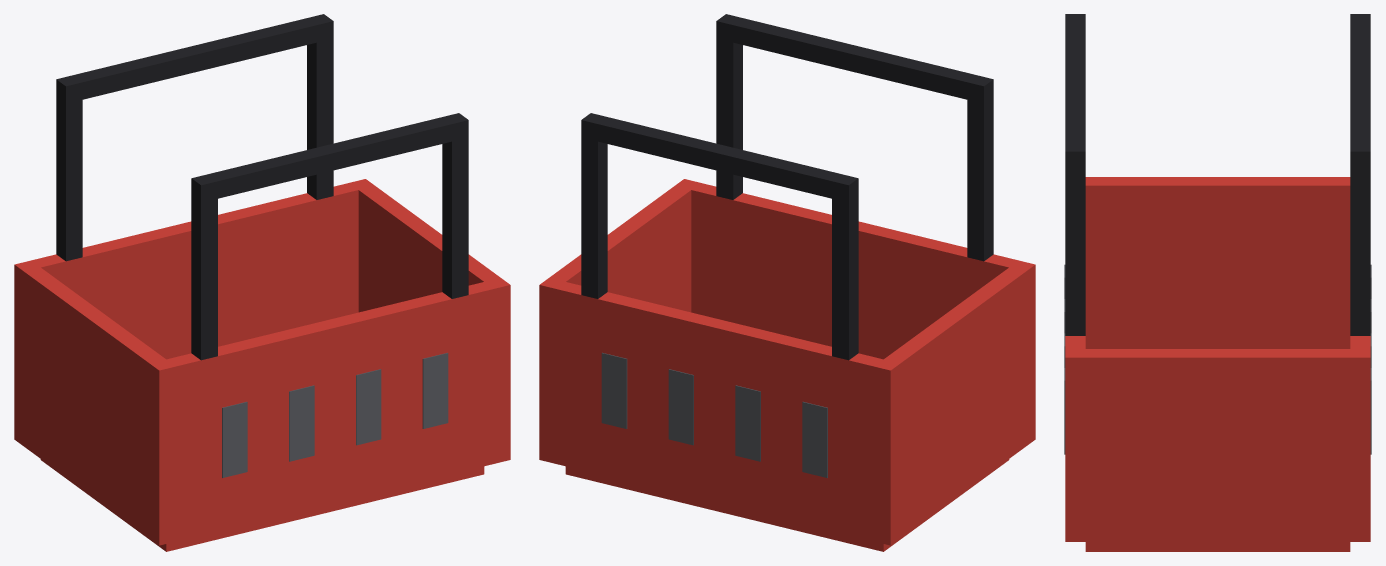
The model's file is basket.glb.
3 views of the same model, side by side, from view 1: azimuth 30°, elevation 25°; view 2: azimuth 150°, elevation 25°; view 3: azimuth 270°, elevation 25° (orthographic). The views are drawn at different scales.
Visible parts, largest first — view 1: basket; view 2: basket; view 3: basket.
Boxes of the visible parts, x1=… form: basket: x1=14, y1=14, x2=510, y2=551; basket: x1=539, y1=14, x2=1035, y2=551; basket: x1=1064, y1=14, x2=1371, y2=551.
Bounding box in the file's own units: 0.42 × 0.42 × 0.302.
Materials: 1 (1 with a texture image).
